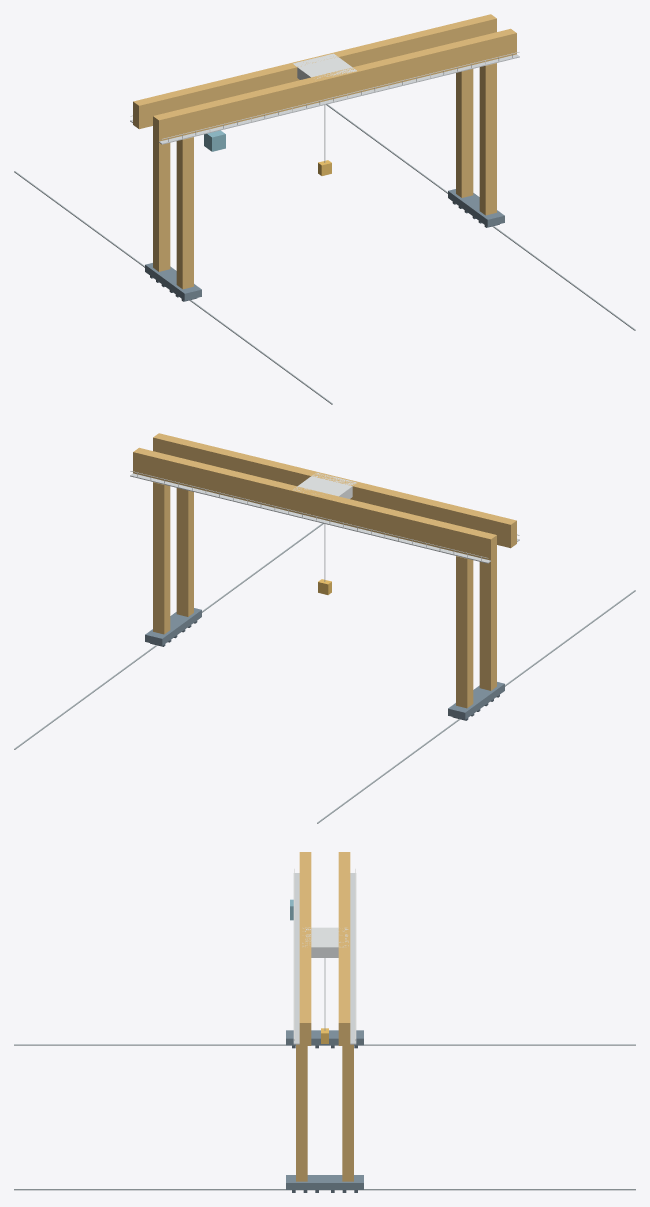
File: crane.glb
3 views of the same model, one above another, from view 1: azimuth 30°, elevation 25°; view 2: azimuth 150°, elevation 25°; view 3: azimuth 270°, elevation 25° (orthographic). The views are drawn at different scales.
Visible parts, largest first — view 1: beam_1, beam_-1, column_left_6, column_right_6, column_left_-6, column_right_-6, walkway_1, trolley_body, base_right, base_left, rail_left, rail_right; view 2: beam_-1, beam_1, column_left_-6, column_right_-6, column_left_6, column_right_6, walkway_-1, trolley_body, base_right, base_left, rail_left, rail_right; view 3: beam_-1, beam_1, column_right_-6, column_right_6, walkway_-1, walkway_1, rail_right, rail_left, base_right, trolley_body, base_left.
Part boxes in pixels (x1,y1,x2,y2): beam_1: (153,28,516,143); beam_-1: (133,14,496,129); column_left_6: (176,137,193,289); column_right_6: (479,63,496,215); column_left_-6: (153,140,170,271); column_right_-6: (456,69,473,197); walkway_1: (159,54,519,144); trolley_body: (293,53,356,79); base_right: (448,189,504,226); base_left: (145,263,201,300); rail_left: (14,171,332,404); rail_right: (326,104,635,330); beam_-1: (133,447,496,562); beam_1: (153,433,516,548); column_left_-6: (456,556,473,708); column_right_-6: (153,482,170,634); column_left_6: (479,559,496,690); column_right_6: (176,488,193,616); walkway_-1: (130,473,490,563); trolley_body: (293,473,356,498); base_right: (145,608,201,645); base_left: (448,682,504,719); rail_left: (317,590,635,823); rail_right: (14,523,323,749); beam_-1: (338,852,350,1045); beam_1: (299,852,311,1045); column_right_-6: (342,1044,353,1181); column_right_6: (296,1044,307,1181); walkway_-1: (350,873,356,1044); walkway_1: (293,873,299,1044); rail_right: (14,1189,635,1190); rail_left: (14,1044,635,1045); base_right: (286,1175,363,1189); trolley_body: (302,927,348,957); base_left: (286,1030,363,1045).
Bounding box in the file's own units: 104 × 51.1 × 160.
